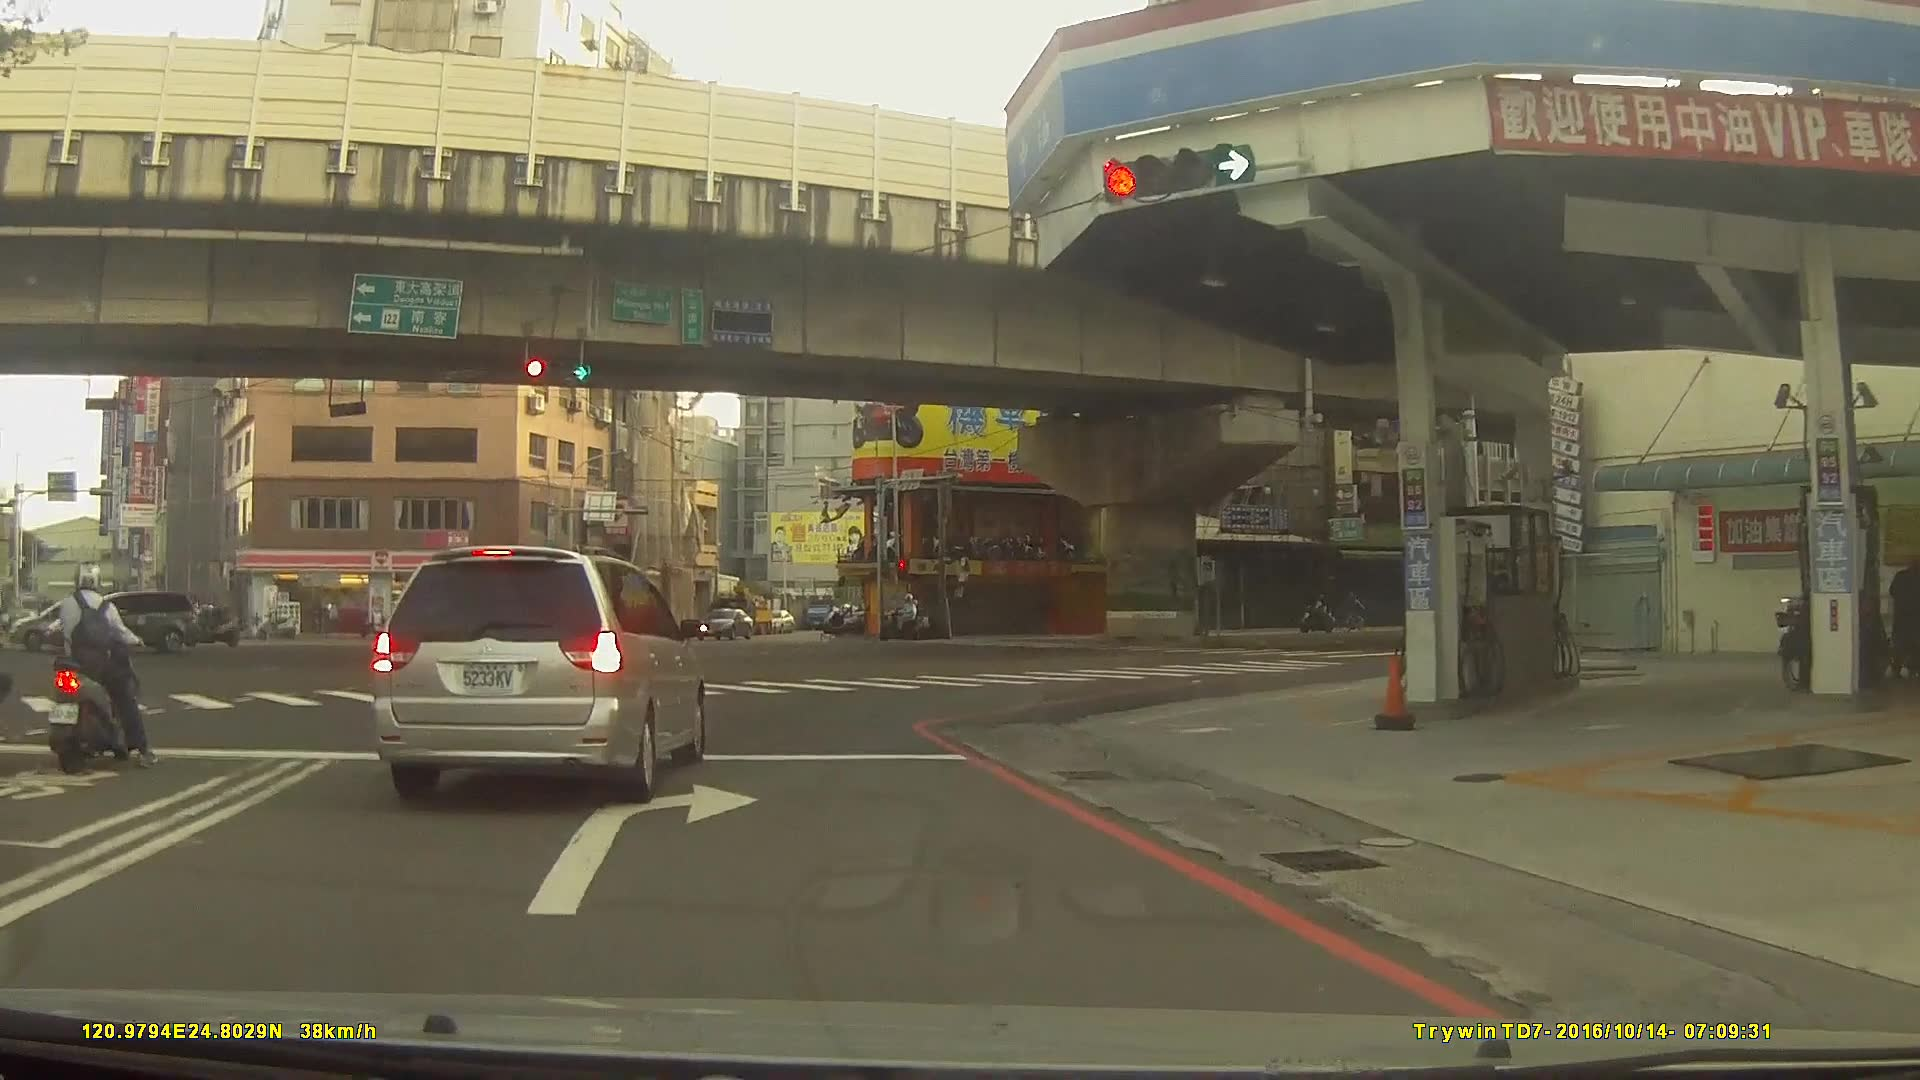rider: (48, 564, 156, 775), (179, 596, 246, 647), (881, 593, 926, 639)
vehicle: (367, 543, 705, 802), (46, 588, 199, 653), (699, 607, 755, 639), (543, 606, 605, 633)
